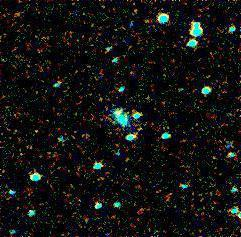star: (104, 101, 134, 131)
